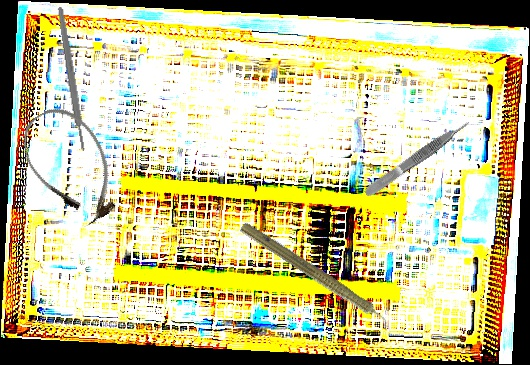Cannula: (9, 96, 133, 236)
Handpiece: (235, 219, 403, 338)
Scalpel Handle: (56, 6, 87, 152)
Tissue Forceps: (362, 118, 473, 199)
